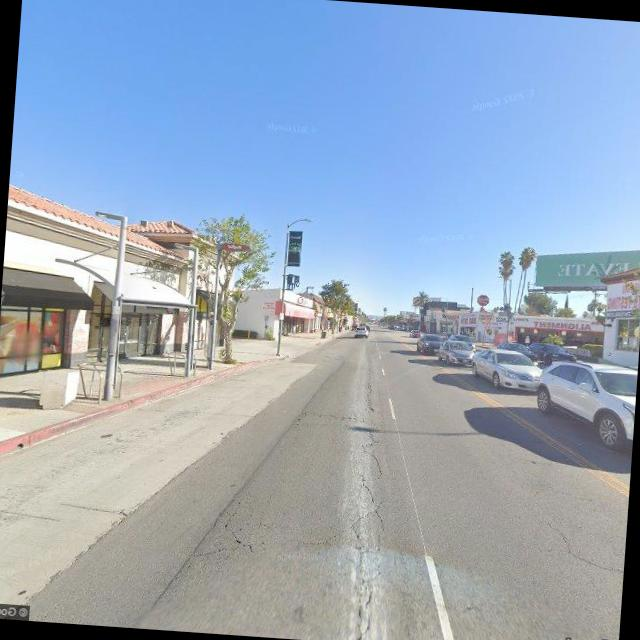crack: (320, 415, 405, 640)
pothole: (539, 519, 626, 577)
